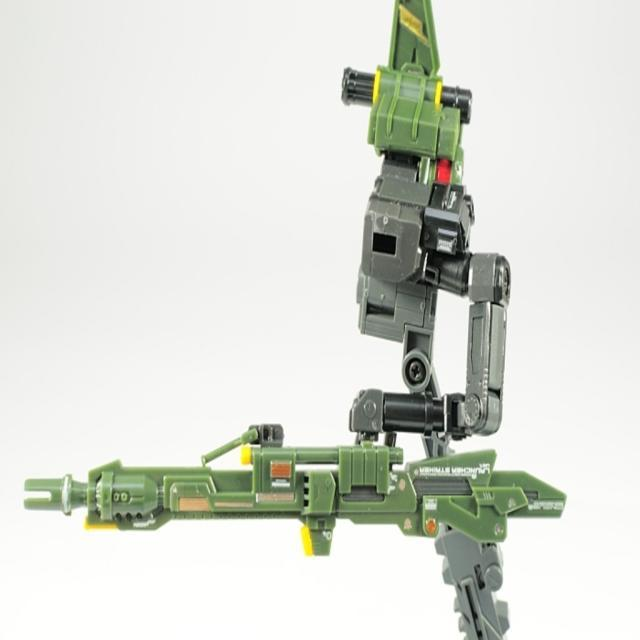weapon: (24, 0, 568, 640)
